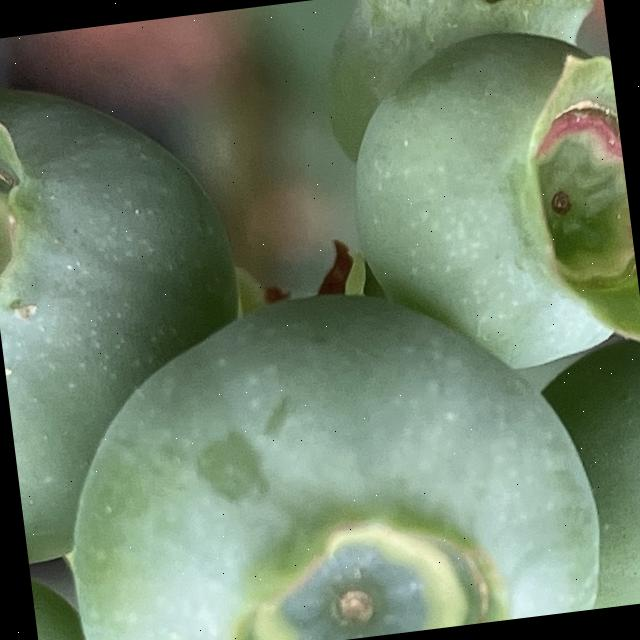Blueberries: (40, 262, 613, 640), (0, 62, 242, 565), (336, 14, 640, 402), (477, 336, 640, 619)
